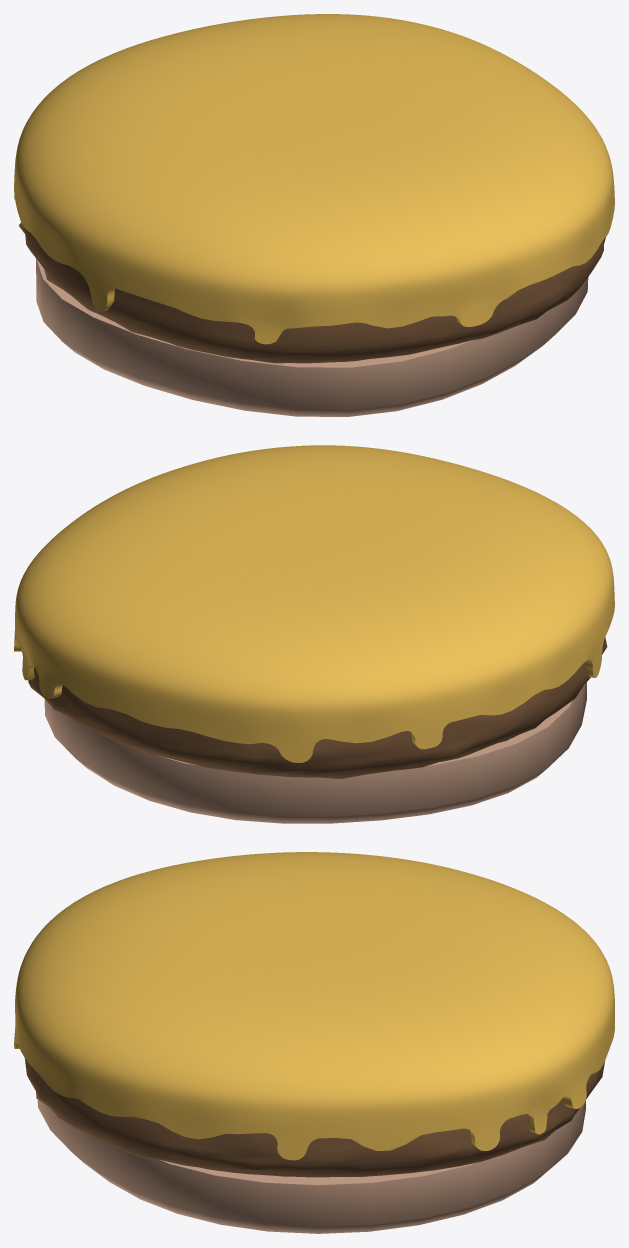
The model's file is KOTGburgerpatty.fbx.
3 views of the same model, one above another, from view 1: azimuth 30°, elevation 25°; view 2: azimuth 150°, elevation 25°; view 3: azimuth 270°, elevation 25° (orthographic). The views are drawn at different scales.
Visible parts, largest first — view 1: Cylinder.002, Cylinder.001, Cylinder; view 2: Cylinder.002, Cylinder.001, Cylinder; view 3: Cylinder.002, Cylinder.001, Cylinder.
Boxes of the visible parts, x1=… form: Cylinder.002: x1=14, y1=14, x2=614, y2=344; Cylinder.001: x1=36, y1=259, x2=588, y2=416; Cylinder: x1=18, y1=222, x2=605, y2=363; Cylinder.002: x1=14, y1=445, x2=614, y2=762; Cylinder.001: x1=44, y1=682, x2=586, y2=823; Cylinder: x1=28, y1=637, x2=607, y2=778; Cylinder.002: x1=14, y1=852, x2=614, y2=1160; Cylinder.001: x1=37, y1=1099, x2=585, y2=1233; Cylinder: x1=24, y1=1058, x2=604, y2=1177.
Bounding box in the file's own units: 204 × 83.71 × 212.
